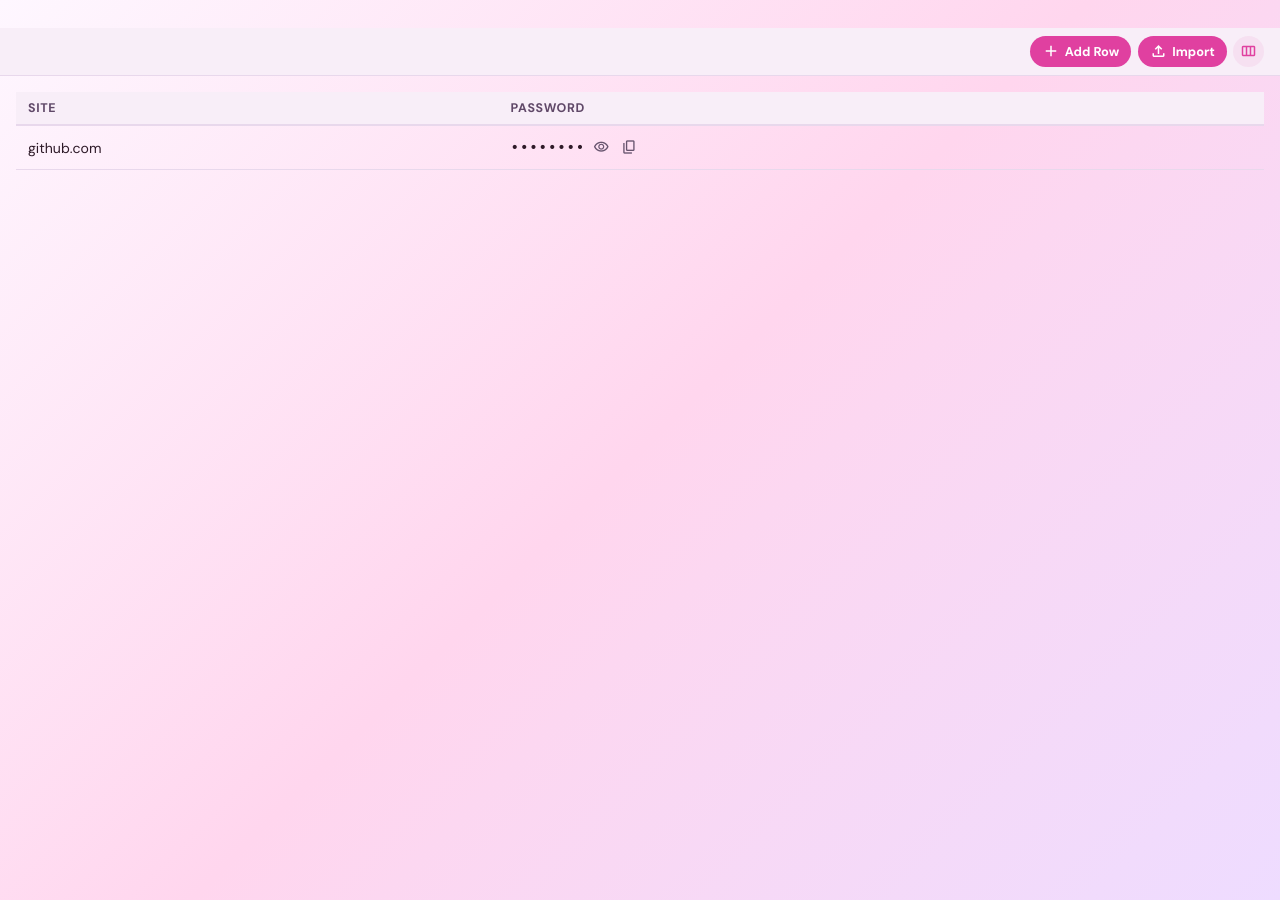
it: TableEditor masked columns › hides the value again on a second toggle
Step 1. Click the button named "Show value" → click(601, 147), box [589,135,613,159]
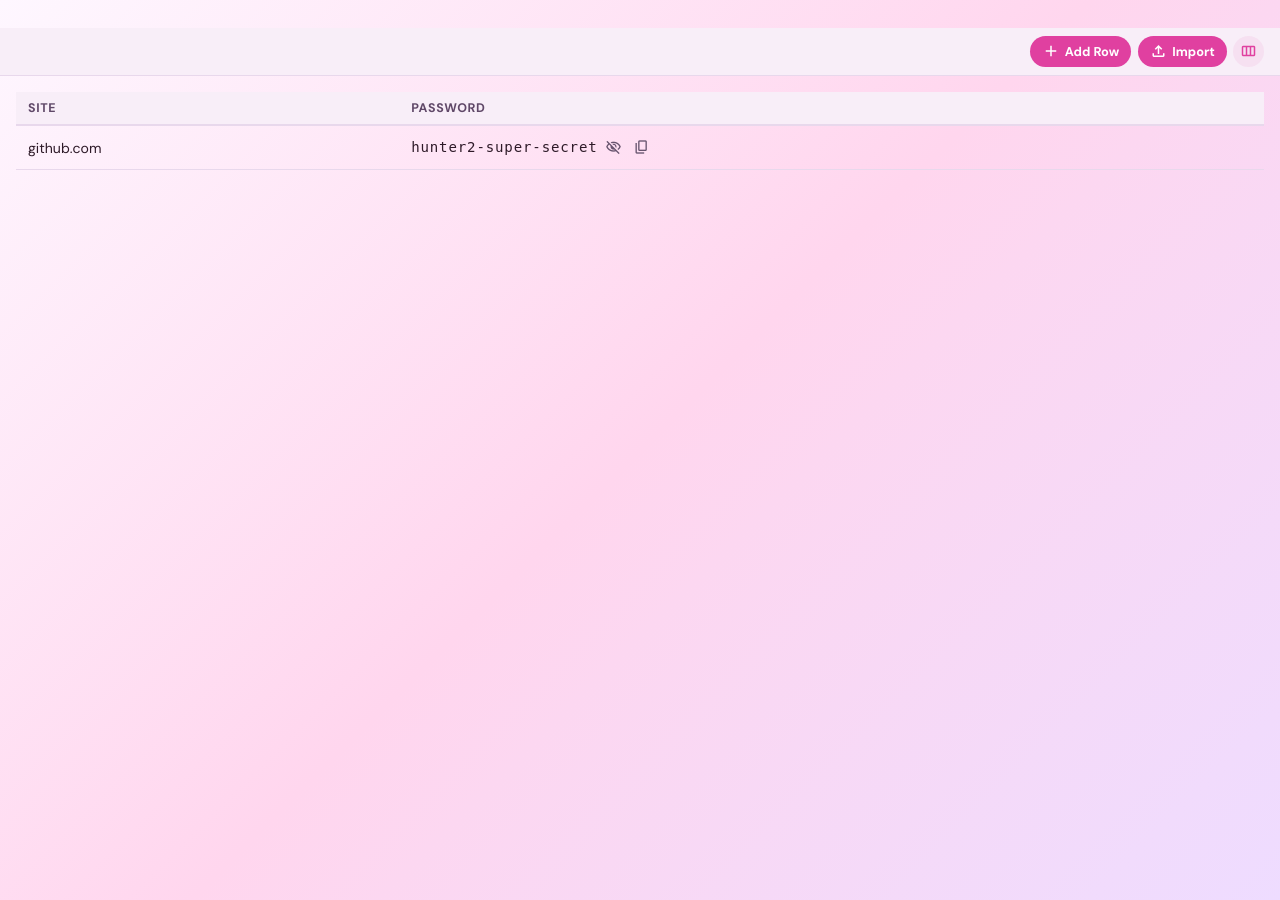
Step 2. Click the button named "Hide value" → click(614, 147), box [602,135,626,159]
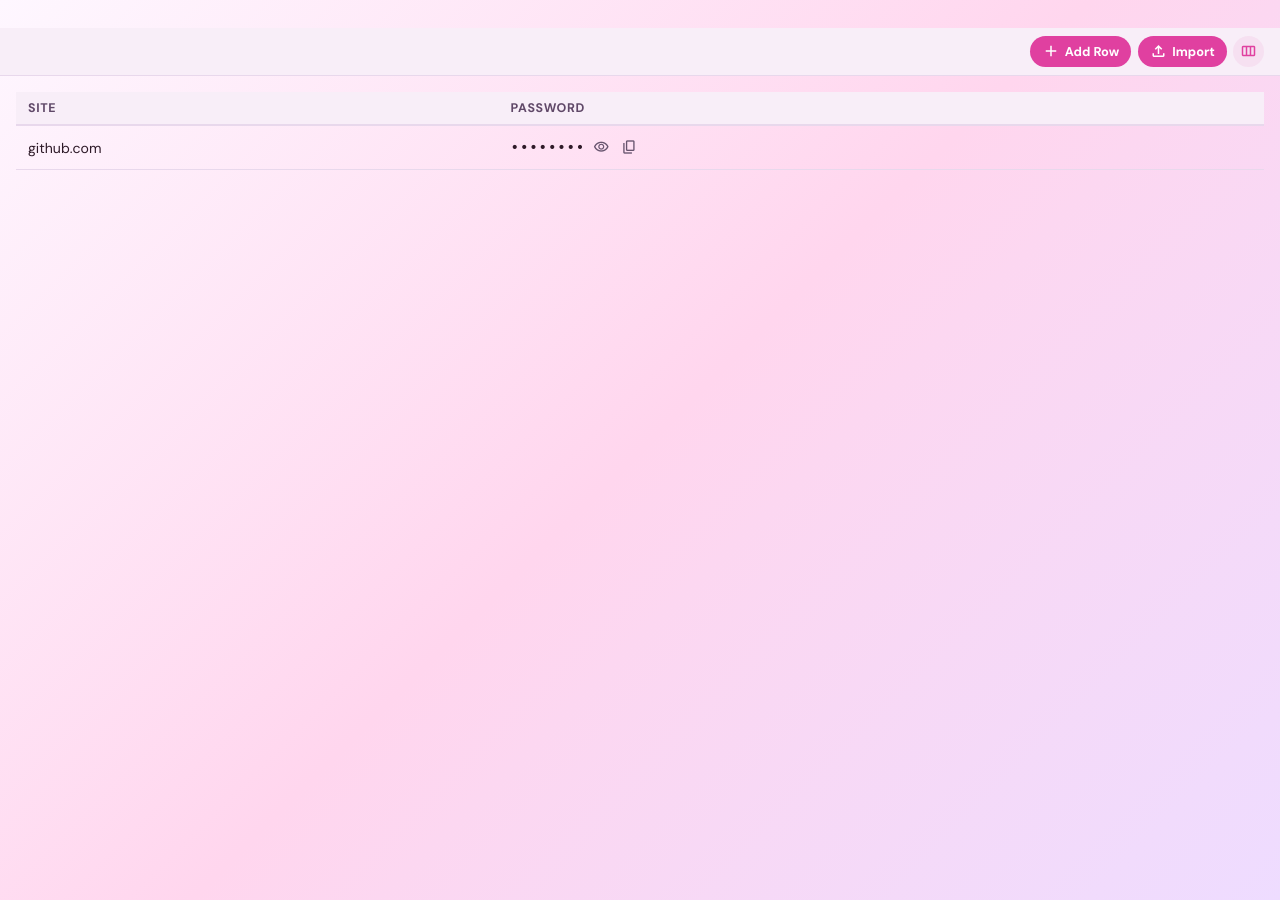
Expected: the text "hunter2-super-secret" is gone
